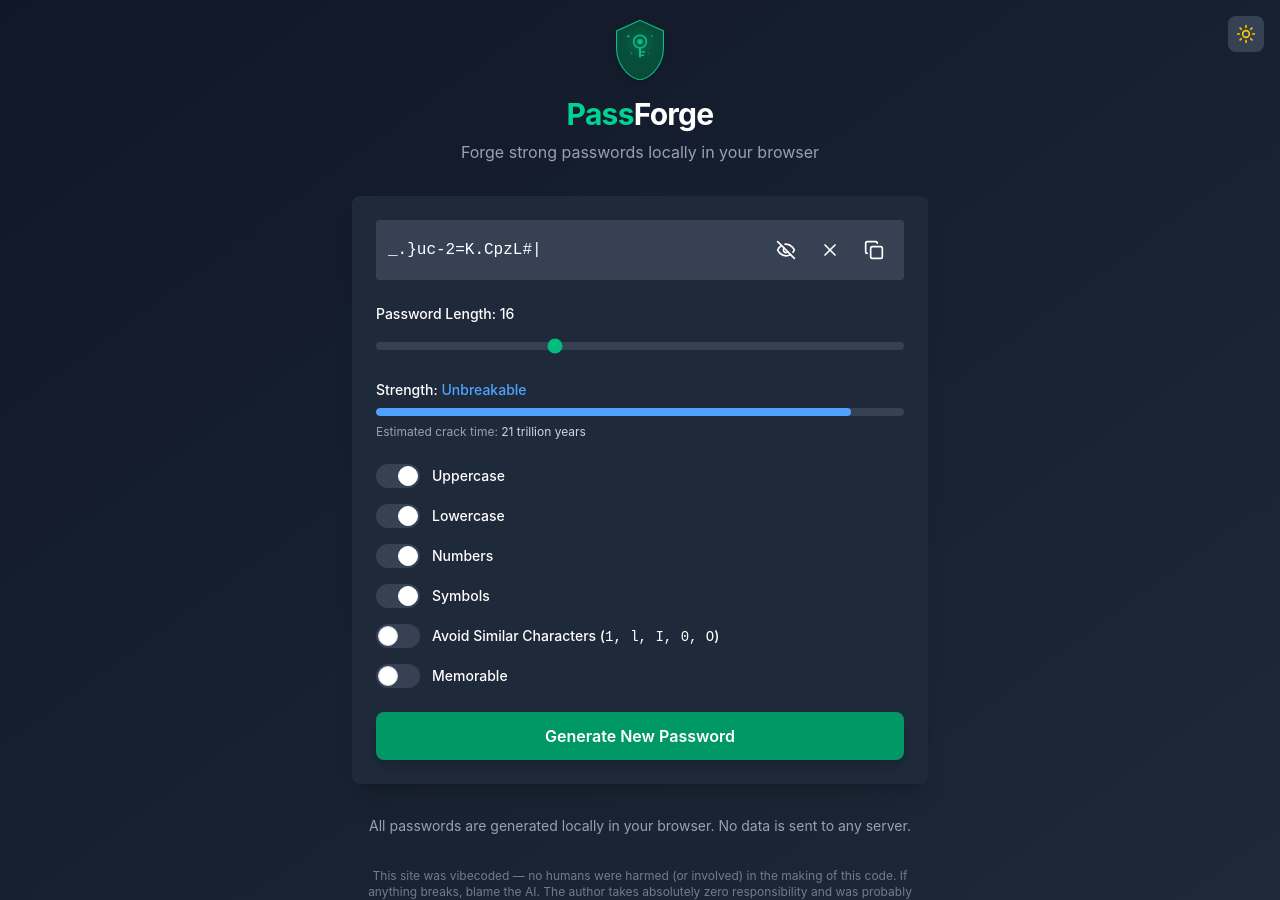
Test: App component › resets countdown when copying again
Click the button titled "Copy to clipboard (Ctrl+C)" at (874, 250), box [856,232,892,268]
Wait 1000 ms
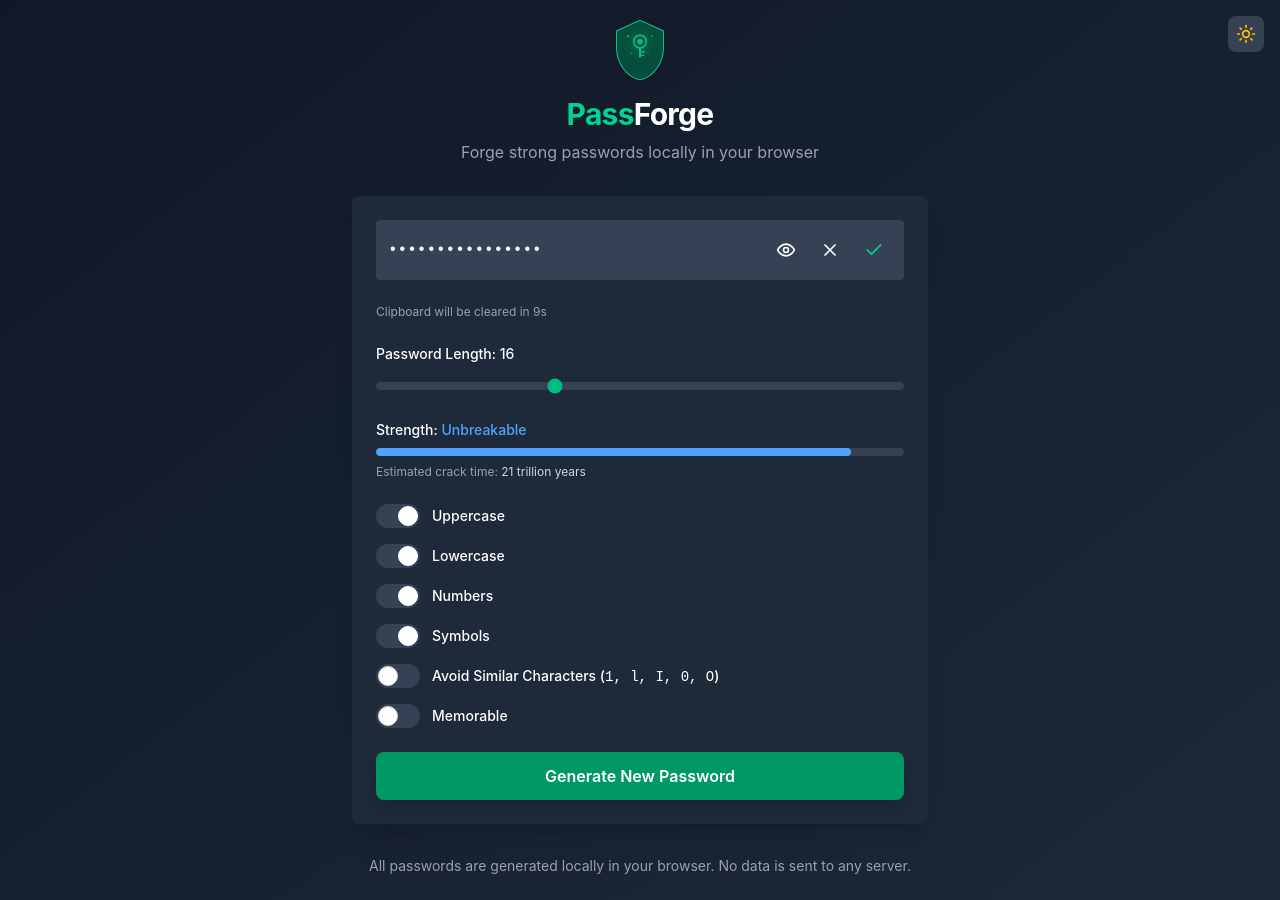
Check: the text "Clipboard will be cleared in 9s" is shown, box [376,304,547,319]
Note: Copy again - should reset to 10
Click the button titled "Copy to clipboard (Ctrl+C)" at (874, 250), box [856,232,892,268]
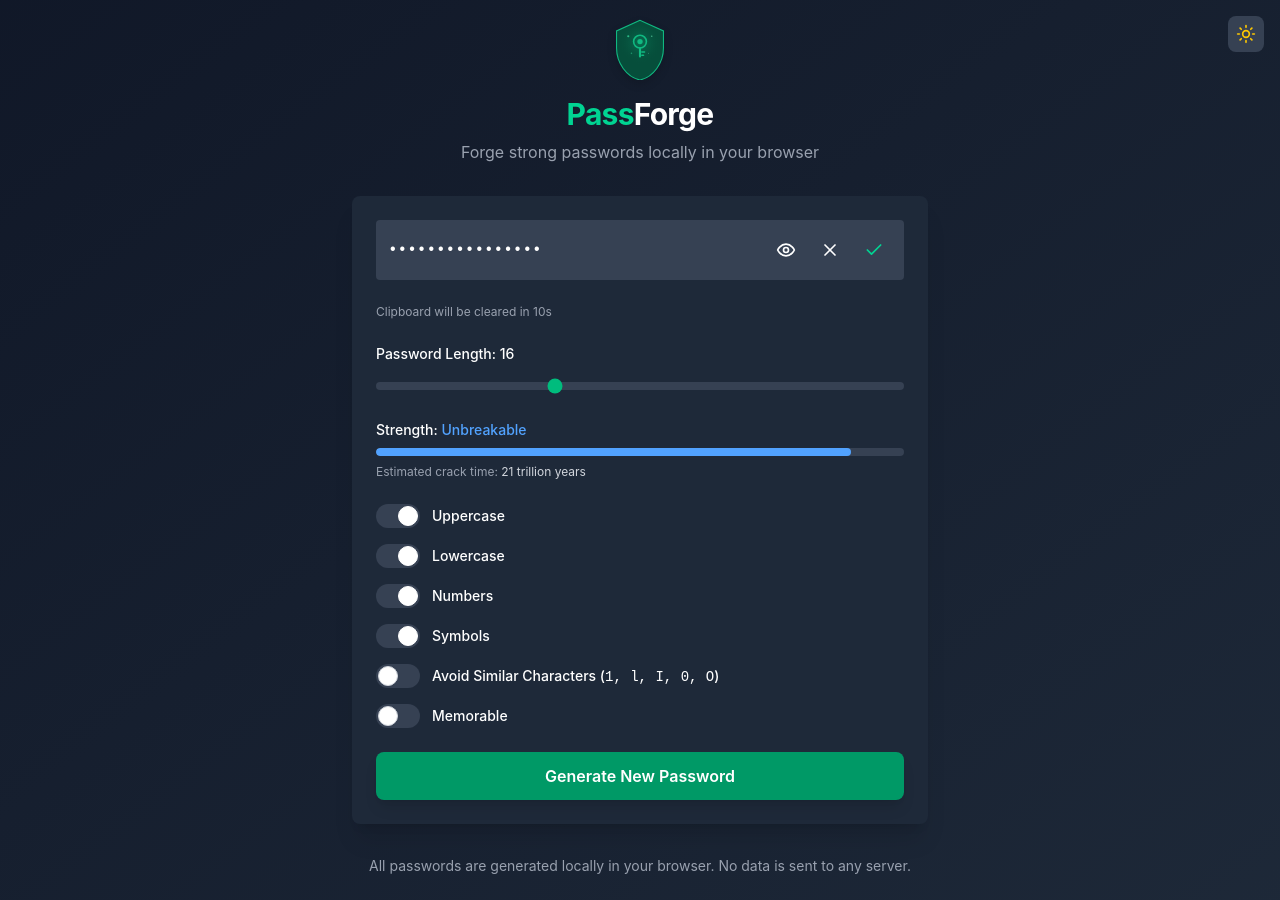
Check: the text "Clipboard will be cleared in 10s" is shown, box [376,304,552,319]
